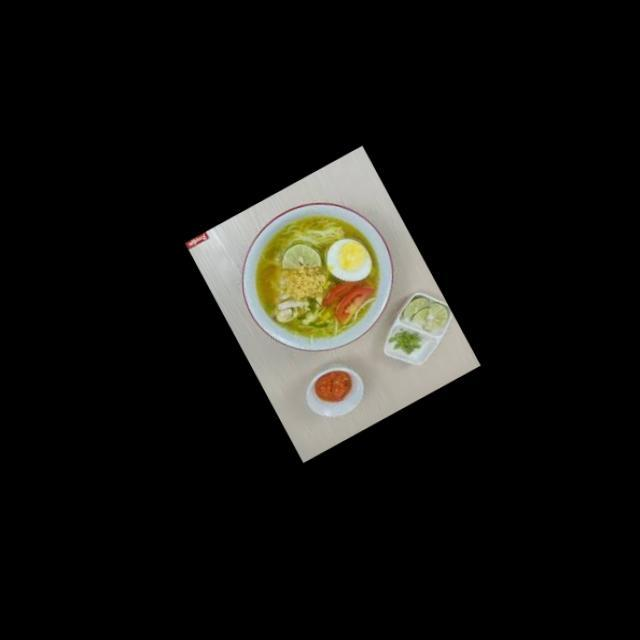Soto: (241, 203, 393, 350)
